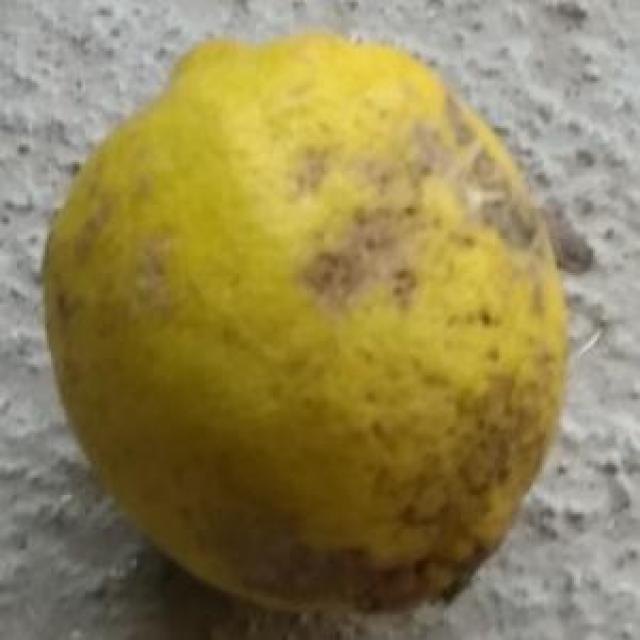lemon: (39, 32, 572, 618)
